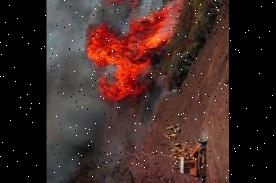fire: (83, 0, 189, 106)
